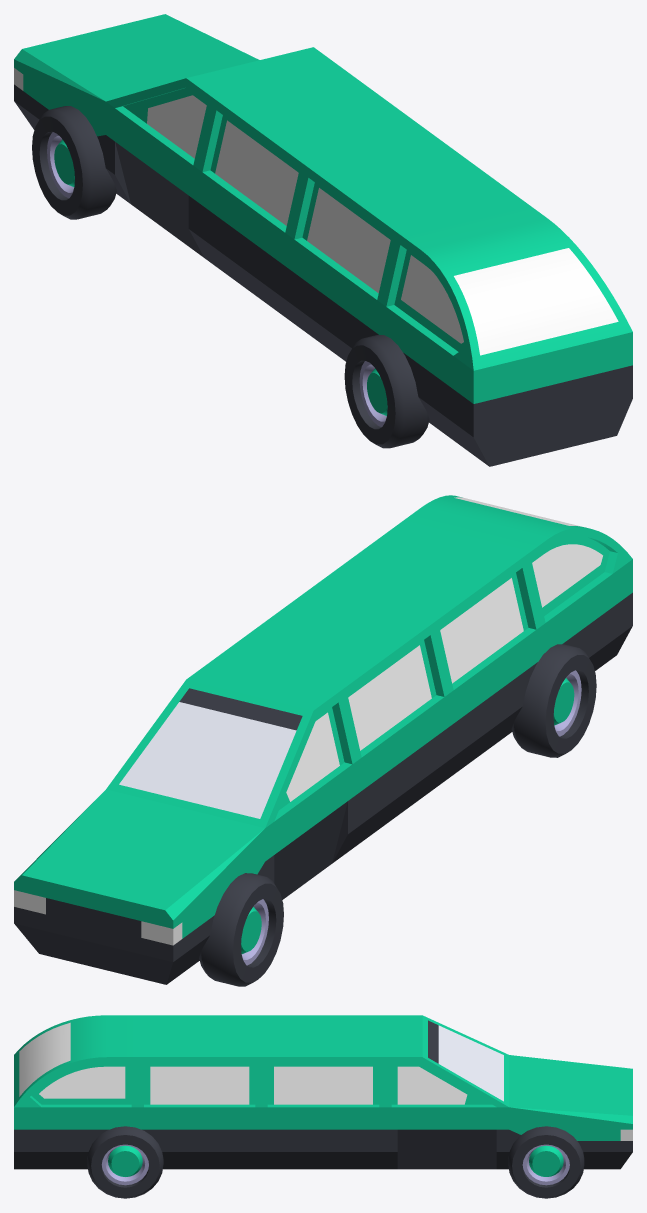
File: Limo.glb
3 views of the same model, one above another, from view 1: azimuth 30°, elevation 25°; view 2: azimuth 150°, elevation 25°; view 3: azimuth 270°, elevation 25° (orthographic). The views are drawn at different scales.
Visible parts, largest first — view 1: mergedBlocks(Clone); view 2: mergedBlocks(Clone); view 3: mergedBlocks(Clone).
Boxes of the visible parts, x1=… form: mergedBlocks(Clone): x1=14, y1=14, x2=632, y2=466; mergedBlocks(Clone): x1=14, y1=495, x2=632, y2=986; mergedBlocks(Clone): x1=14, y1=1015, x2=632, y2=1198.
Bounding box in the file's own units: 1.23 × 1.19 × 5.
